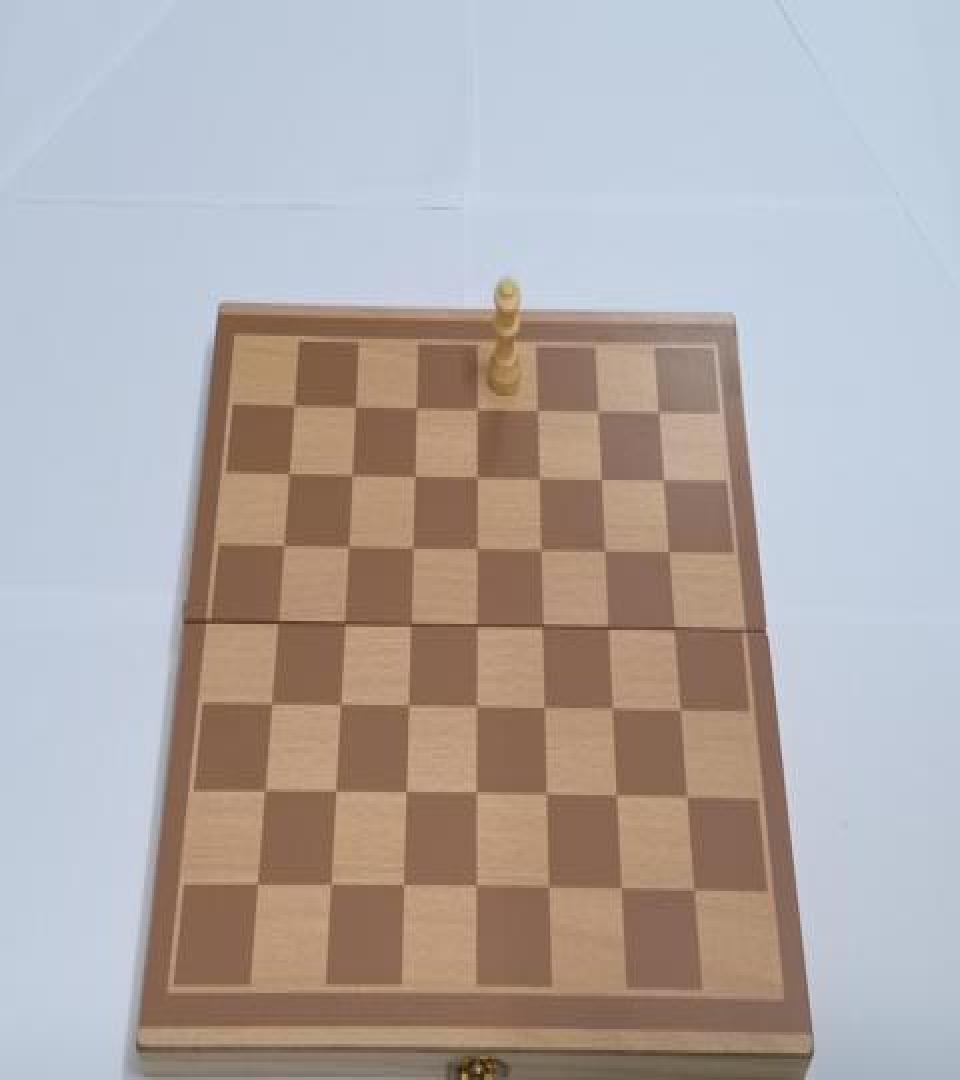xcorner: (282, 460, 300, 488), (408, 394, 426, 422), (468, 694, 486, 722), (592, 466, 610, 494), (287, 393, 305, 420), (276, 532, 294, 559), (270, 609, 288, 636), (257, 778, 275, 805), (347, 393, 365, 420), (344, 462, 362, 489), (340, 534, 358, 561), (336, 610, 354, 637), (332, 693, 350, 720), (327, 780, 345, 807), (402, 612, 420, 639), (400, 693, 418, 720), (398, 780, 416, 807), (395, 873, 413, 900), (468, 396, 486, 423), (468, 537, 486, 564), (468, 874, 486, 901), (529, 397, 547, 424), (530, 465, 548, 492), (532, 537, 550, 564), (534, 615, 552, 642), (536, 696, 554, 723), (538, 783, 556, 810), (540, 876, 558, 903), (589, 397, 607, 424), (596, 538, 614, 565), (600, 615, 618, 642), (608, 785, 626, 812), (649, 399, 667, 426), (654, 468, 672, 495), (660, 540, 678, 567), (666, 617, 684, 644), (672, 699, 690, 726), (678, 786, 696, 813), (685, 879, 703, 906), (264, 692, 282, 718), (250, 872, 268, 898), (322, 872, 340, 898), (406, 464, 424, 490), (404, 536, 422, 562), (468, 464, 486, 490), (468, 614, 486, 640), (468, 782, 486, 808), (604, 698, 622, 724), (613, 878, 631, 904)
